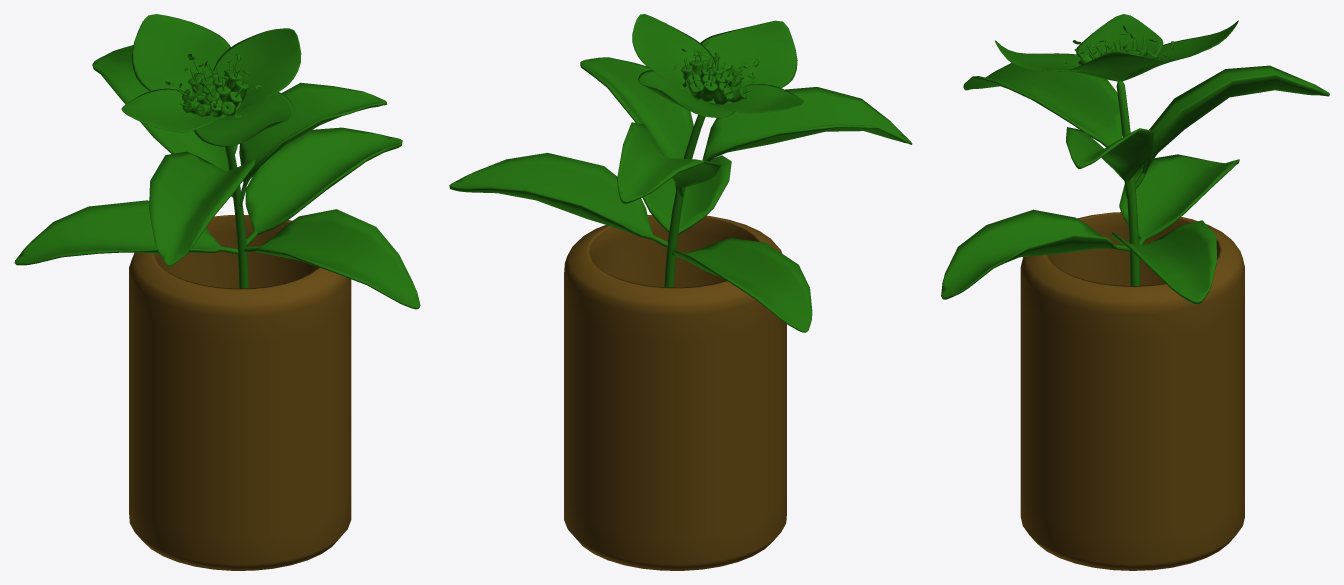
Rendered from CornusSuecicaStatue.fbx.
The picture shows the model from 3 angles, left to right: view 1: azimuth 30°, elevation 25°; view 2: azimuth 150°, elevation 25°; view 3: azimuth 270°, elevation 25°; orthographic projection.
Visible parts, largest first — view 1: Cylinder, Leafs.005; view 2: Cylinder, Leafs.005; view 3: Cylinder, Leafs.005.
Boxes of the visible parts, bbox=[...] form: Cylinder: bbox=[129, 215, 351, 570]; Leafs.005: bbox=[14, 14, 420, 309]; Cylinder: bbox=[564, 215, 786, 570]; Leafs.005: bbox=[449, 14, 912, 332]; Cylinder: bbox=[1020, 212, 1244, 570]; Leafs.005: bbox=[941, 14, 1329, 304].
Size of the model in its own units: 428 by 544 by 385.
